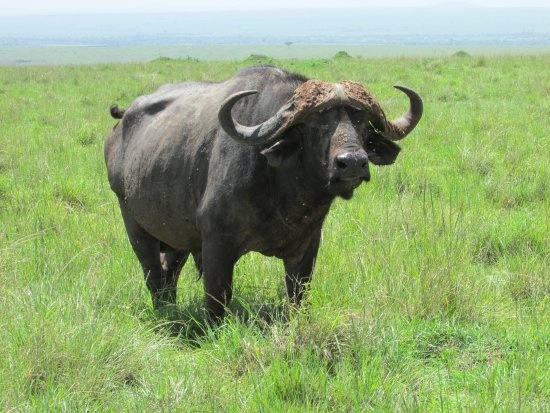buffalo: (102, 66, 426, 327)
